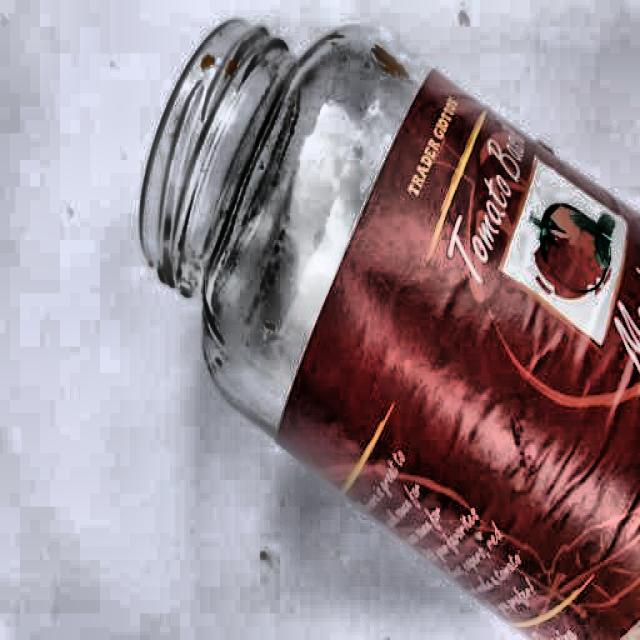glass: (131, 13, 640, 597)
